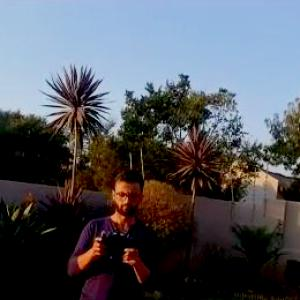follow: (64, 159, 166, 299)
